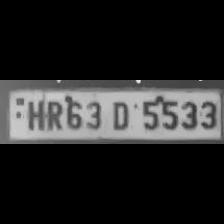3: (84, 97, 104, 130), (179, 97, 199, 130), (198, 98, 218, 130)
5: (136, 97, 160, 131), (159, 96, 179, 130)
6: (62, 97, 82, 131)
D: (105, 98, 133, 130)
H: (24, 97, 44, 131)
R: (43, 97, 62, 131)
